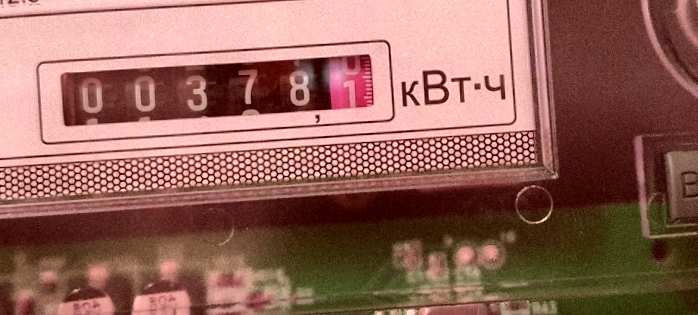0: (79, 73, 107, 114), (132, 72, 157, 112), (340, 53, 362, 75)
1: (340, 76, 360, 108)
3: (183, 71, 210, 112)
7: (235, 65, 260, 105)
8: (287, 66, 312, 107)
screen: (40, 35, 394, 136)
